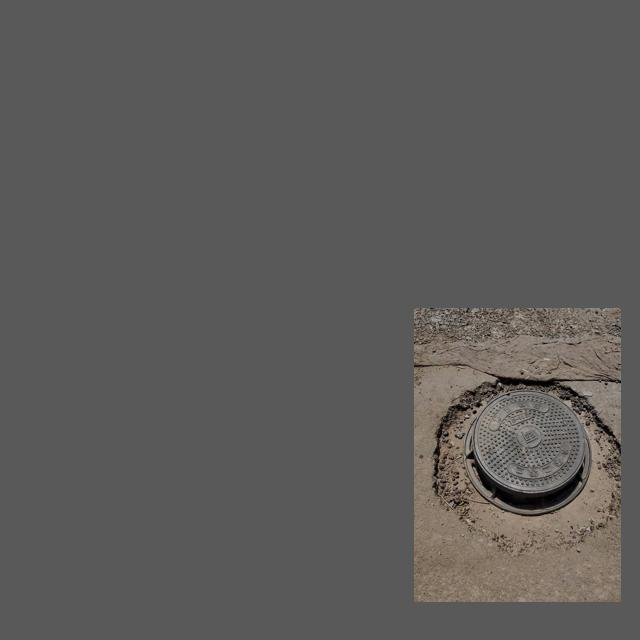circle: (435, 379, 618, 551)
